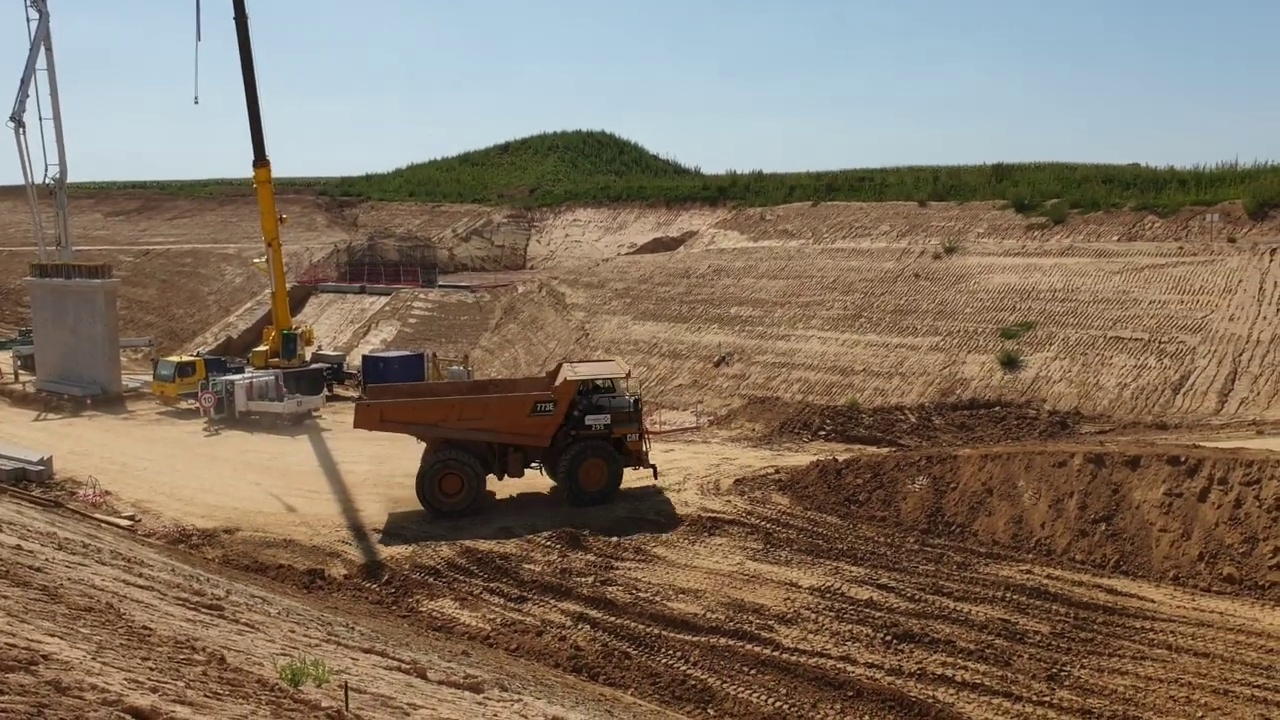crane: (147, 2, 340, 437)
truck: (349, 357, 666, 517)
